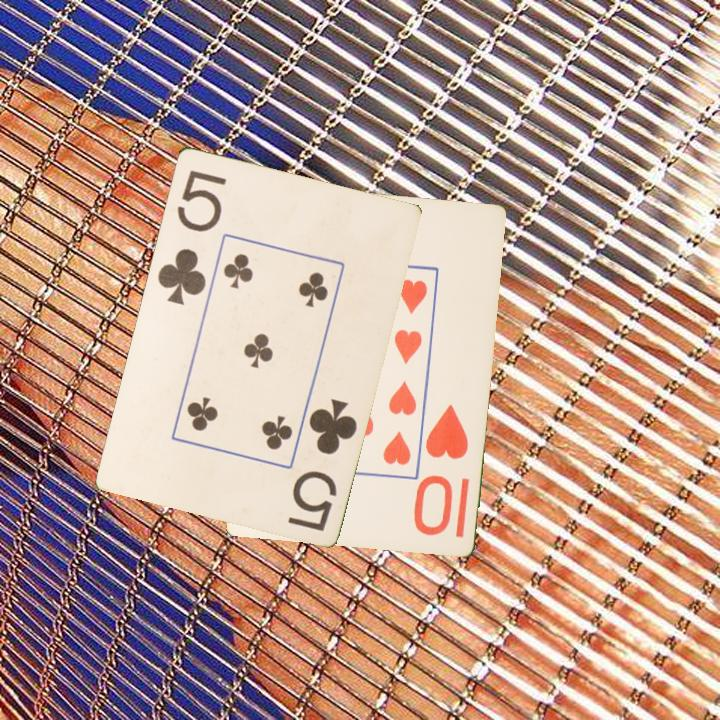10h: (414, 400, 471, 538)
5c: (153, 166, 229, 308), (283, 395, 360, 534)
